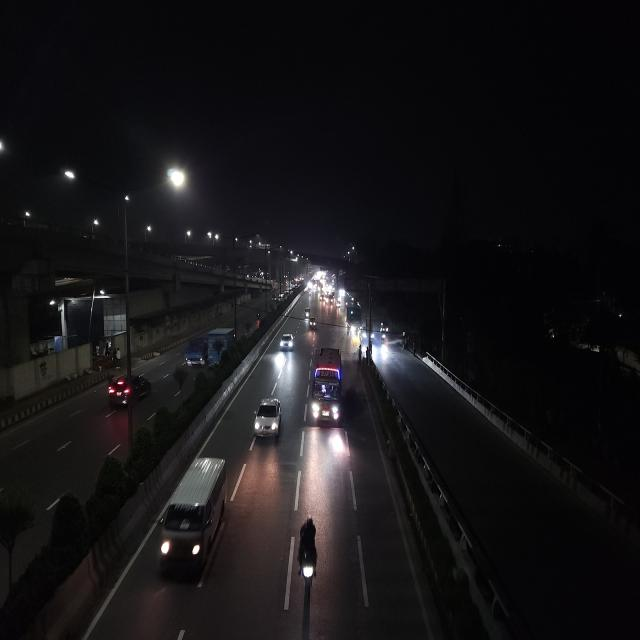bus: (307, 344, 345, 428)
car: (154, 451, 232, 585), (106, 370, 154, 412), (250, 393, 284, 447), (278, 330, 296, 352)
cng: (308, 316, 318, 332), (303, 305, 311, 319)
motorcycle: (294, 510, 324, 603), (379, 320, 388, 336)
pickup_van: (180, 339, 205, 370)
truck: (205, 329, 235, 364), (345, 308, 363, 333)
